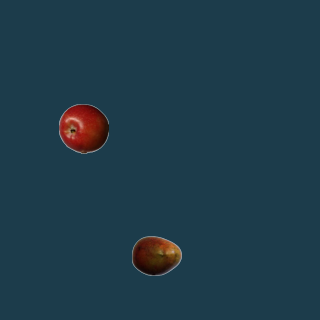Apple Braeburn: (58, 103, 108, 153)
Mango Red: (131, 230, 181, 280)
